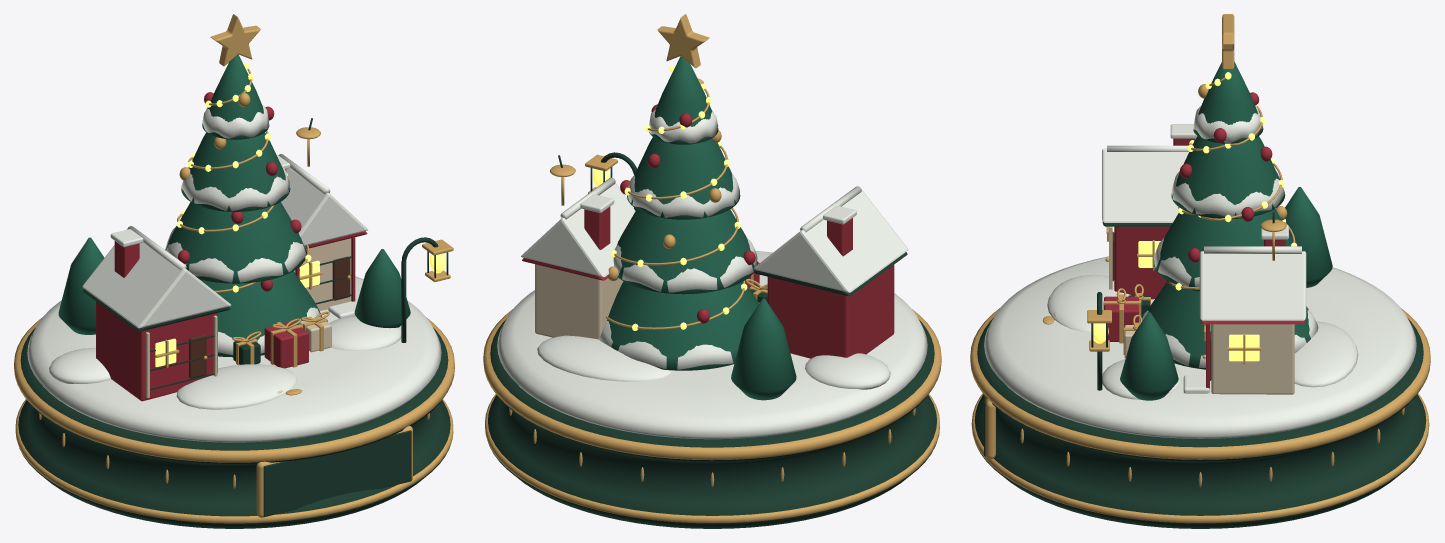
File: flashclip-natal.glb
3 views of the same model, side by side, from view 1: azimuth 30°, elevation 25°; view 2: azimuth 150°, elevation 25°; view 3: azimuth 270°, elevation 25° (orthographic). The views are drawn at different scales.
Parts seen in each view (by area): view 1: ENV_snow_island, BASE_turned_emerald_pedestal, BASE_front_medallion_inset, BASE_upper_gold_collar, HOUSE_red_cabin_roof_snow, HOUSE_red_cabin_walls, HERO_pine_tier_1, HERO_pine_tier_2, HERO_pine_tier_0, ENV_snowbank_3, BASE_lower_gold_trim, HOUSE_cream_cabin_roof_snow (+20 smaller); view 2: BASE_turned_emerald_pedestal, ENV_snow_island, HERO_pine_tier_0, HOUSE_red_cabin_walls, BASE_upper_gold_collar, HOUSE_red_cabin_roof_snow, HERO_pine_tier_1, HERO_pine_tier_2, HOUSE_cream_cabin_walls, ENV_small_pine_0, HOUSE_cream_cabin_roof_snow, BASE_lower_gold_trim (+12 smaller); view 3: BASE_turned_emerald_pedestal, ENV_snow_island, HOUSE_cream_cabin_roof_snow, BASE_upper_gold_collar, HOUSE_red_cabin_roof_snow, HOUSE_cream_cabin_walls, HERO_pine_tier_2, BASE_lower_gold_trim, HERO_pine_tier_1, ENV_small_pine_1, HERO_pine_tier_0, ENV_snowbank_1 (+16 smaller).
Part boxes in pixels (x1,y1,x2,y2): ENV_snow_island: [27, 276, 441, 442]; BASE_turned_emerald_pedestal: [18, 327, 450, 528]; BASE_front_medallion_inset: [263, 430, 411, 516]; BASE_upper_gold_collar: [14, 317, 454, 462]; HOUSE_red_cabin_roof_snow: [82, 229, 231, 328]; HOUSE_red_cabin_walls: [96, 301, 217, 401]; HERO_pine_tier_1: [165, 202, 306, 283]; HERO_pine_tier_2: [181, 132, 290, 211]; HERO_pine_tier_0: [200, 271, 321, 357]; ENV_snowbank_3: [176, 364, 296, 409]; BASE_lower_gold_trim: [15, 399, 453, 523]; HOUSE_cream_cabin_roof_snow: [281, 168, 368, 245]; BASE_turned_emerald_pedestal: [488, 319, 936, 528]; ENV_snow_island: [497, 251, 927, 439]; HERO_pine_tier_0: [607, 281, 758, 370]; HOUSE_red_cabin_walls: [767, 265, 894, 358]; BASE_upper_gold_collar: [483, 309, 941, 460]; HOUSE_red_cabin_roof_snow: [753, 189, 908, 292]; HERO_pine_tier_1: [617, 209, 757, 294]; HERO_pine_tier_2: [627, 137, 740, 219]; HOUSE_cream_cabin_walls: [535, 264, 623, 339]; ENV_small_pine_0: [731, 298, 796, 400]; HOUSE_cream_cabin_roof_snow: [521, 183, 635, 277]; BASE_lower_gold_trim: [485, 394, 939, 523]; BASE_turned_emerald_pedestal: [974, 318, 1426, 528]; ENV_snow_island: [984, 256, 1416, 438]; HOUSE_cream_cabin_roof_snow: [1199, 251, 1306, 320]; BASE_upper_gold_collar: [970, 308, 1430, 459]; HOUSE_red_cabin_roof_snow: [1102, 148, 1188, 222]; HOUSE_cream_cabin_walls: [1211, 324, 1294, 394]; HERO_pine_tier_2: [1171, 136, 1285, 218]; BASE_lower_gold_trim: [971, 393, 1429, 523]; HERO_pine_tier_1: [1153, 209, 1292, 291]; ENV_small_pine_1: [1120, 312, 1178, 400]; HERO_pine_tier_0: [1147, 282, 1310, 369]; ENV_snowbank_1: [1294, 321, 1358, 387].
Size of the model in its own units: 3.15 by 3.26 by 3.15.
